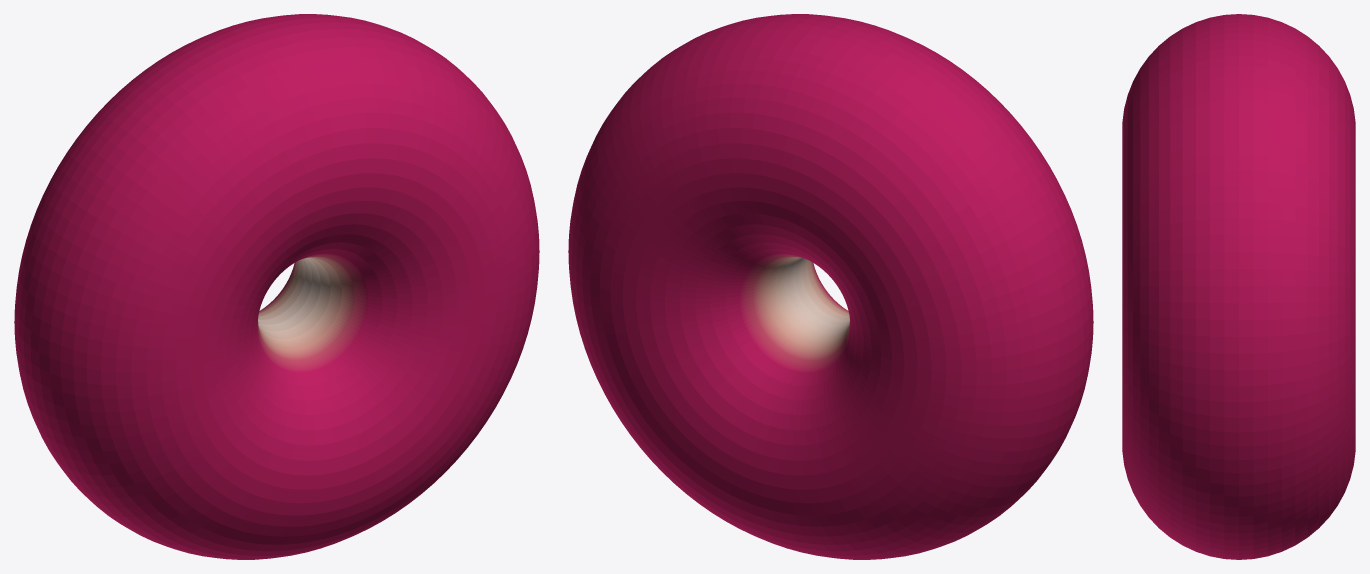
The picture shows the model from 3 angles, left to right: view 1: azimuth 30°, elevation 25°; view 2: azimuth 150°, elevation 25°; view 3: azimuth 270°, elevation 25°; orthographic projection. The views are drawn at different scales.
Parts seen in each view (by area): view 1: world; view 2: world; view 3: world.
Boxes of the visible parts, x1,y1,x2,y2 form: world: (14, 14, 539, 559); world: (568, 14, 1093, 559); world: (1122, 14, 1355, 559).
Size of the model in its own units: 23.33 by 23.33 by 9.98.
